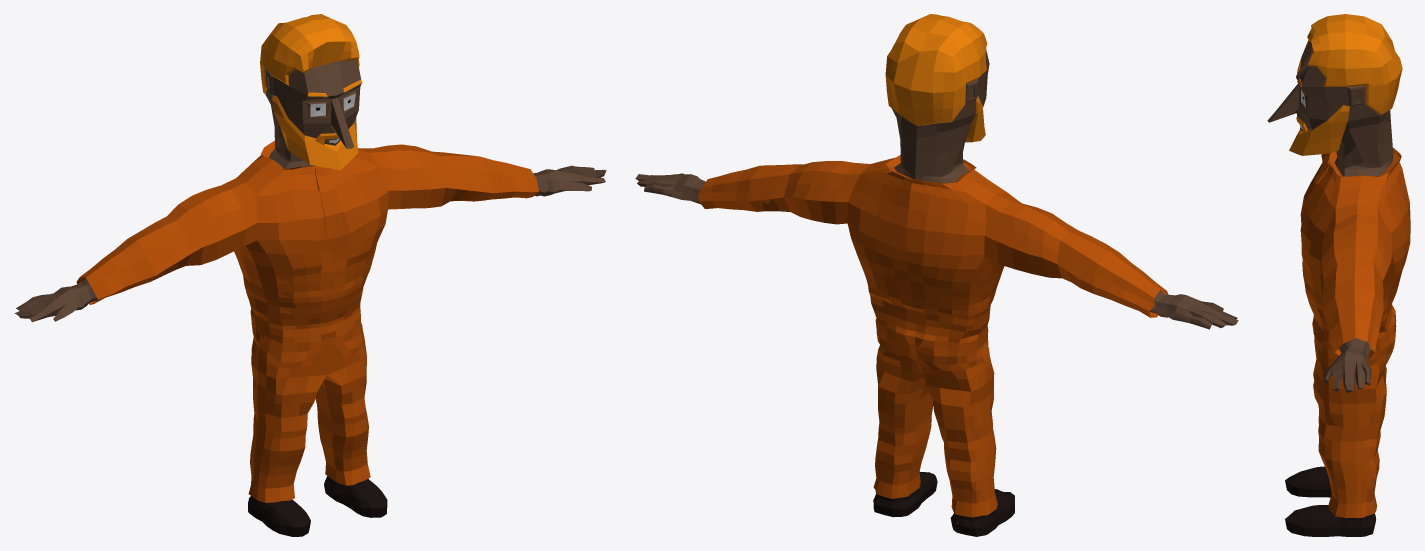
The model's file is zatovrenik 3.fbx.
The picture shows the model from 3 angles, left to right: view 1: azimuth 30°, elevation 25°; view 2: azimuth 150°, elevation 25°; view 3: azimuth 270°, elevation 25°; orthographic projection.
Parts seen in each view (by area): view 1: ROBA.004, LIK1.004; view 2: ROBA.004, LIK1.004; view 3: ROBA.004, LIK1.004.
Boxes of the visible parts, <box> form: ROBA.004: <box>76,140,538,502</box>; LIK1.004: <box>14,14,606,536</box>; ROBA.004: <box>698,155,1168,517</box>; LIK1.004: <box>635,14,1238,536</box>; ROBA.004: <box>1300,148,1410,517</box>; LIK1.004: <box>1267,14,1402,536</box>.
Size of the model in its own units: 1350 by 1064 by 282.
